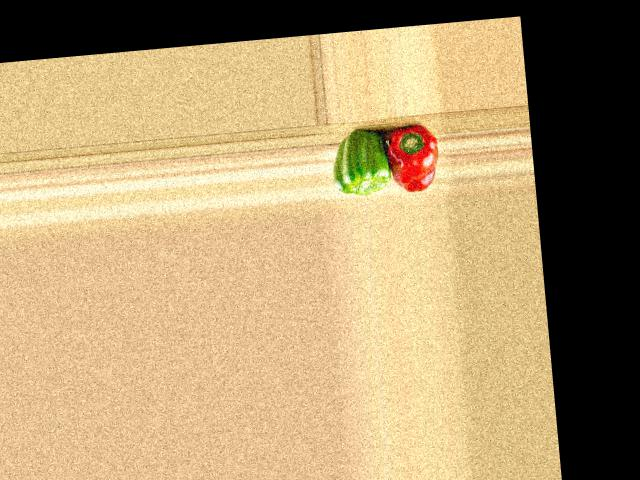bell_pepper: (383, 123, 443, 194)
